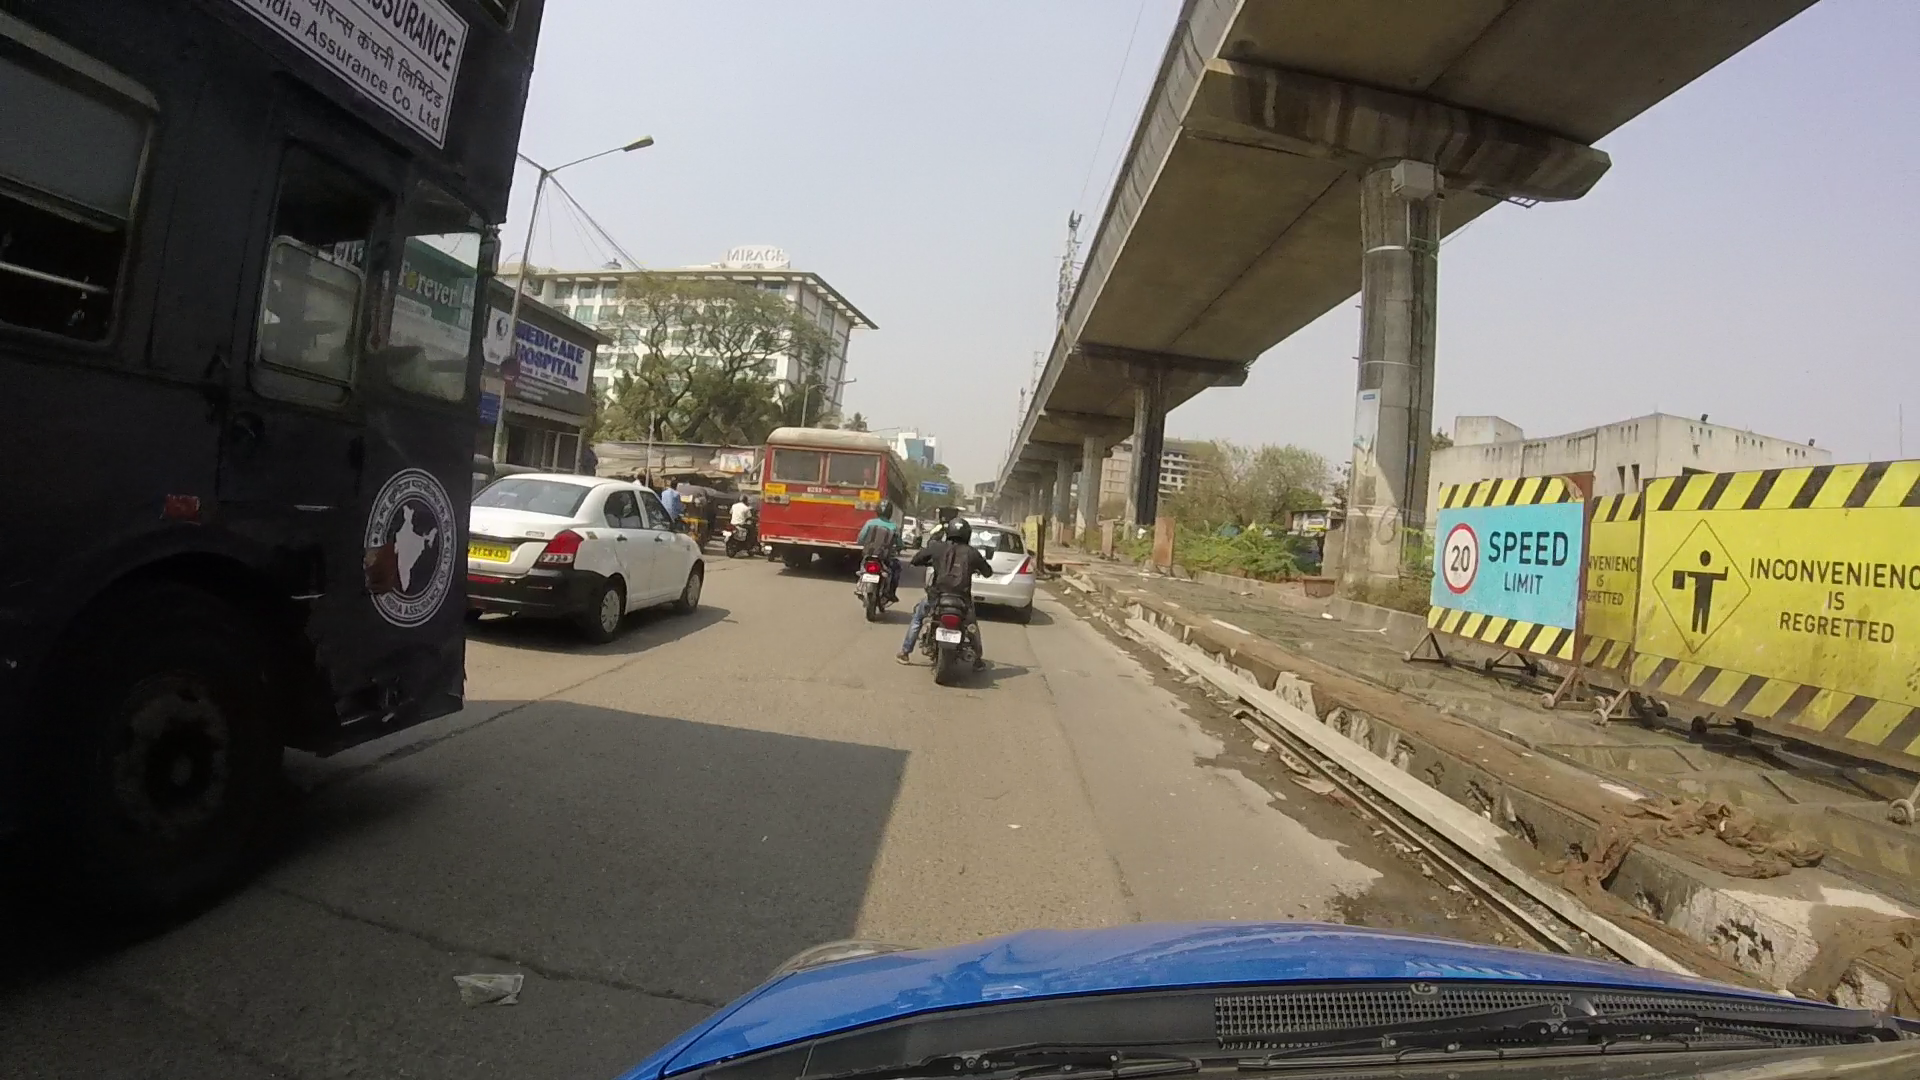bike/scooter: (913, 487, 1000, 688), (849, 493, 905, 630)
bus: (1, 7, 495, 932), (758, 396, 909, 578)
car: (460, 443, 709, 637), (953, 498, 1042, 609)
